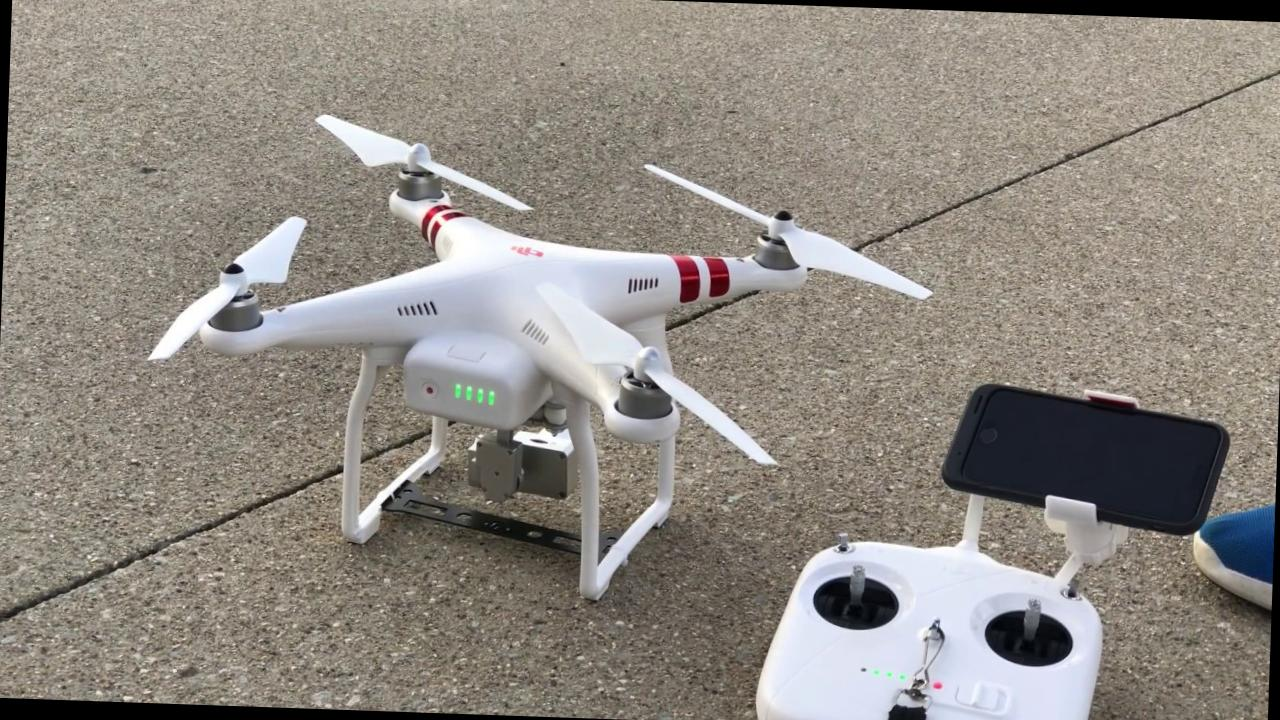drone: (113, 102, 925, 574)
